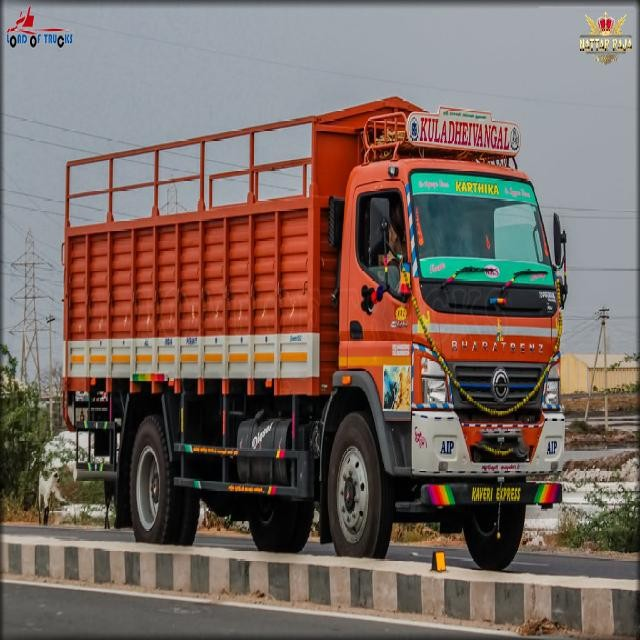truck: (59, 97, 576, 578)
